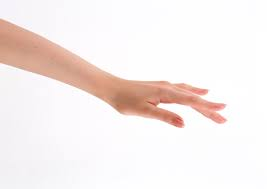hand: (79, 43, 238, 136)
